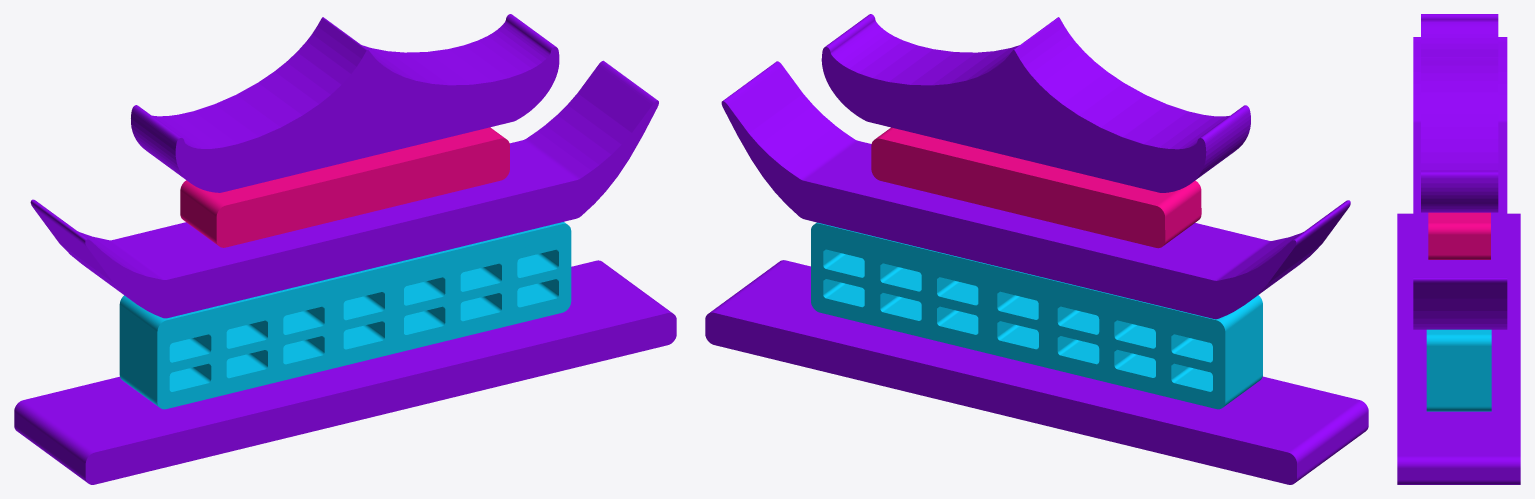
File: Templo.glb
The picture shows the model from 3 angles, left to right: view 1: azimuth 30°, elevation 25°; view 2: azimuth 150°, elevation 25°; view 3: azimuth 270°, elevation 25°; orthographic projection. The views are drawn at different scales.
Visible parts, largest first — view 1: mesh_id4, mesh_id5, mesh_id7, mesh_id6; view 2: mesh_id4, mesh_id5, mesh_id7, mesh_id6; view 3: mesh_id4, mesh_id7, mesh_id5, mesh_id6.
Boxes of the visible parts, bbox=[...] form: mesh_id4: bbox=[14, 60, 676, 484]; mesh_id5: bbox=[119, 222, 571, 409]; mesh_id7: bbox=[131, 14, 559, 192]; mesh_id6: bbox=[180, 127, 509, 247]; mesh_id4: bbox=[705, 61, 1368, 484]; mesh_id5: bbox=[811, 222, 1262, 409]; mesh_id7: bbox=[821, 14, 1250, 192]; mesh_id6: bbox=[871, 127, 1201, 248]; mesh_id4: bbox=[1397, 37, 1520, 484]; mesh_id7: bbox=[1421, 14, 1498, 212]; mesh_id5: bbox=[1426, 329, 1491, 411]; mesh_id6: bbox=[1428, 212, 1490, 259].
Bounding box in the file's own units: 0.512 × 0.2939 × 0.1073.
4 materials, 4 textured.
